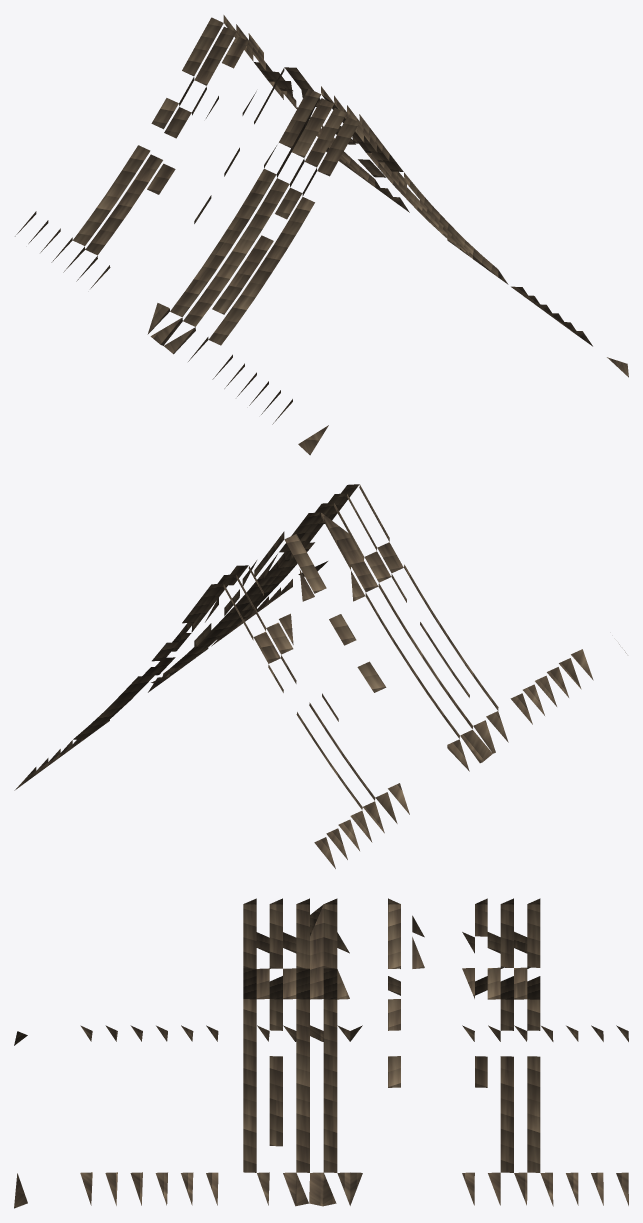
File: Roof_Shingle_6x12_LOD2.gltf
3 views of the same model, one above another, from view 1: azimuth 30°, elevation 25°; view 2: azimuth 150°, elevation 25°; view 3: azimuth 270°, elevation 25° (orthographic). The views are drawn at different scales.
Visible parts, largest first — view 1: Roof_Shingle_6x12_LOD2; view 2: Roof_Shingle_6x12_LOD2; view 3: Roof_Shingle_6x12_LOD2.
Part boxes in pixels (x1,y1,x2,y2): Roof_Shingle_6x12_LOD2: [15, 15, 628, 455]; Roof_Shingle_6x12_LOD2: [14, 484, 626, 868]; Roof_Shingle_6x12_LOD2: [14, 898, 628, 1208].
Size of the model in its own units: 8.25 by 5.17 by 12.77.
1 material, 1 textured.
